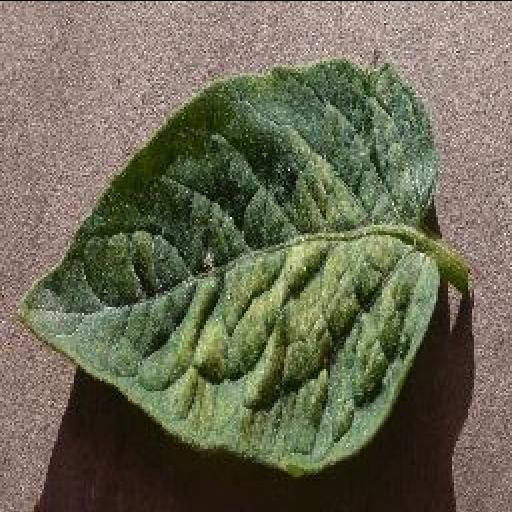disease_tomato: (17, 59, 439, 473)
